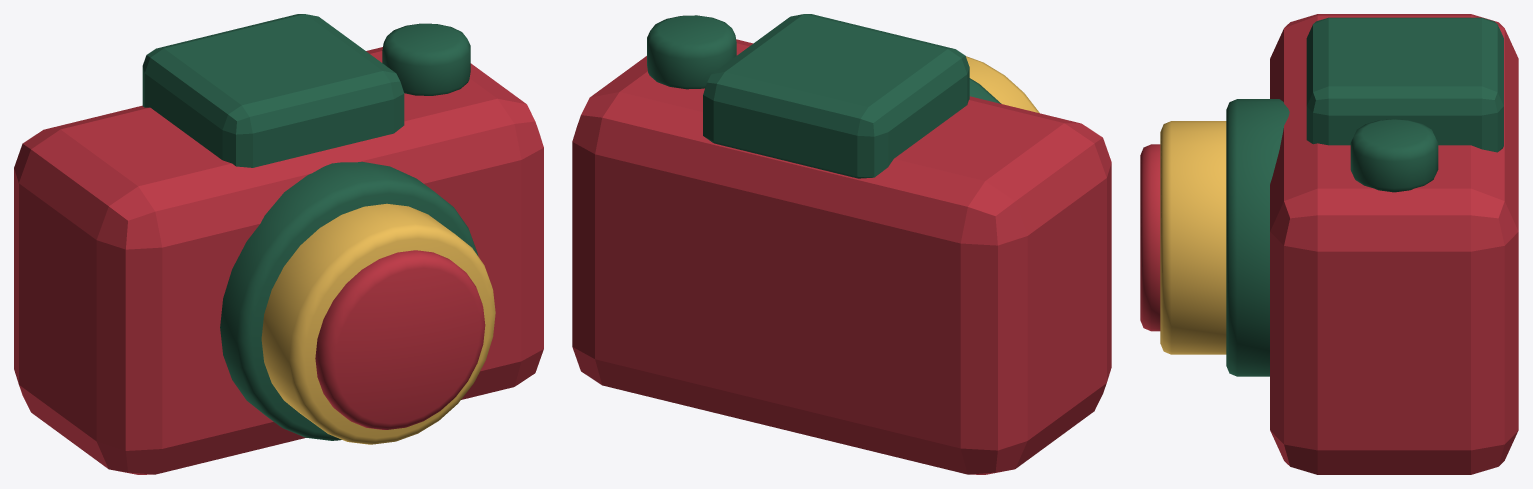
File: ACC_TH_PHOTOGRAPHY_Primary.fbx
The picture shows the model from 3 angles, left to right: view 1: azimuth 30°, elevation 25°; view 2: azimuth 150°, elevation 25°; view 3: azimuth 270°, elevation 25°; orthographic projection. The views are drawn at different scales.
Visible parts, largest first — view 1: ACC_TH_PHOTOGRAPHY_Primary; view 2: ACC_TH_PHOTOGRAPHY_Primary; view 3: ACC_TH_PHOTOGRAPHY_Primary.
Part boxes in pixels (x1,y1,x2,y2): ACC_TH_PHOTOGRAPHY_Primary: [14, 14, 543, 474]; ACC_TH_PHOTOGRAPHY_Primary: [572, 14, 1111, 474]; ACC_TH_PHOTOGRAPHY_Primary: [1140, 14, 1518, 474].
Bounding box in the file's own units: 69 × 50.5 × 51.75.
